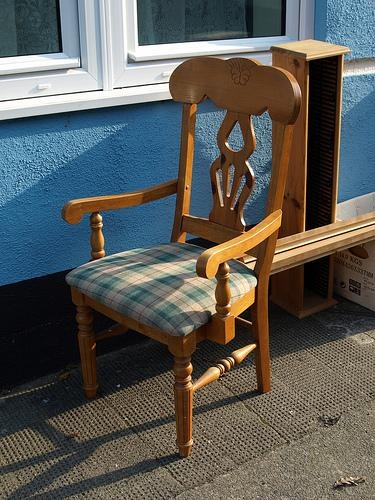obstacle: (62, 57, 300, 456)
